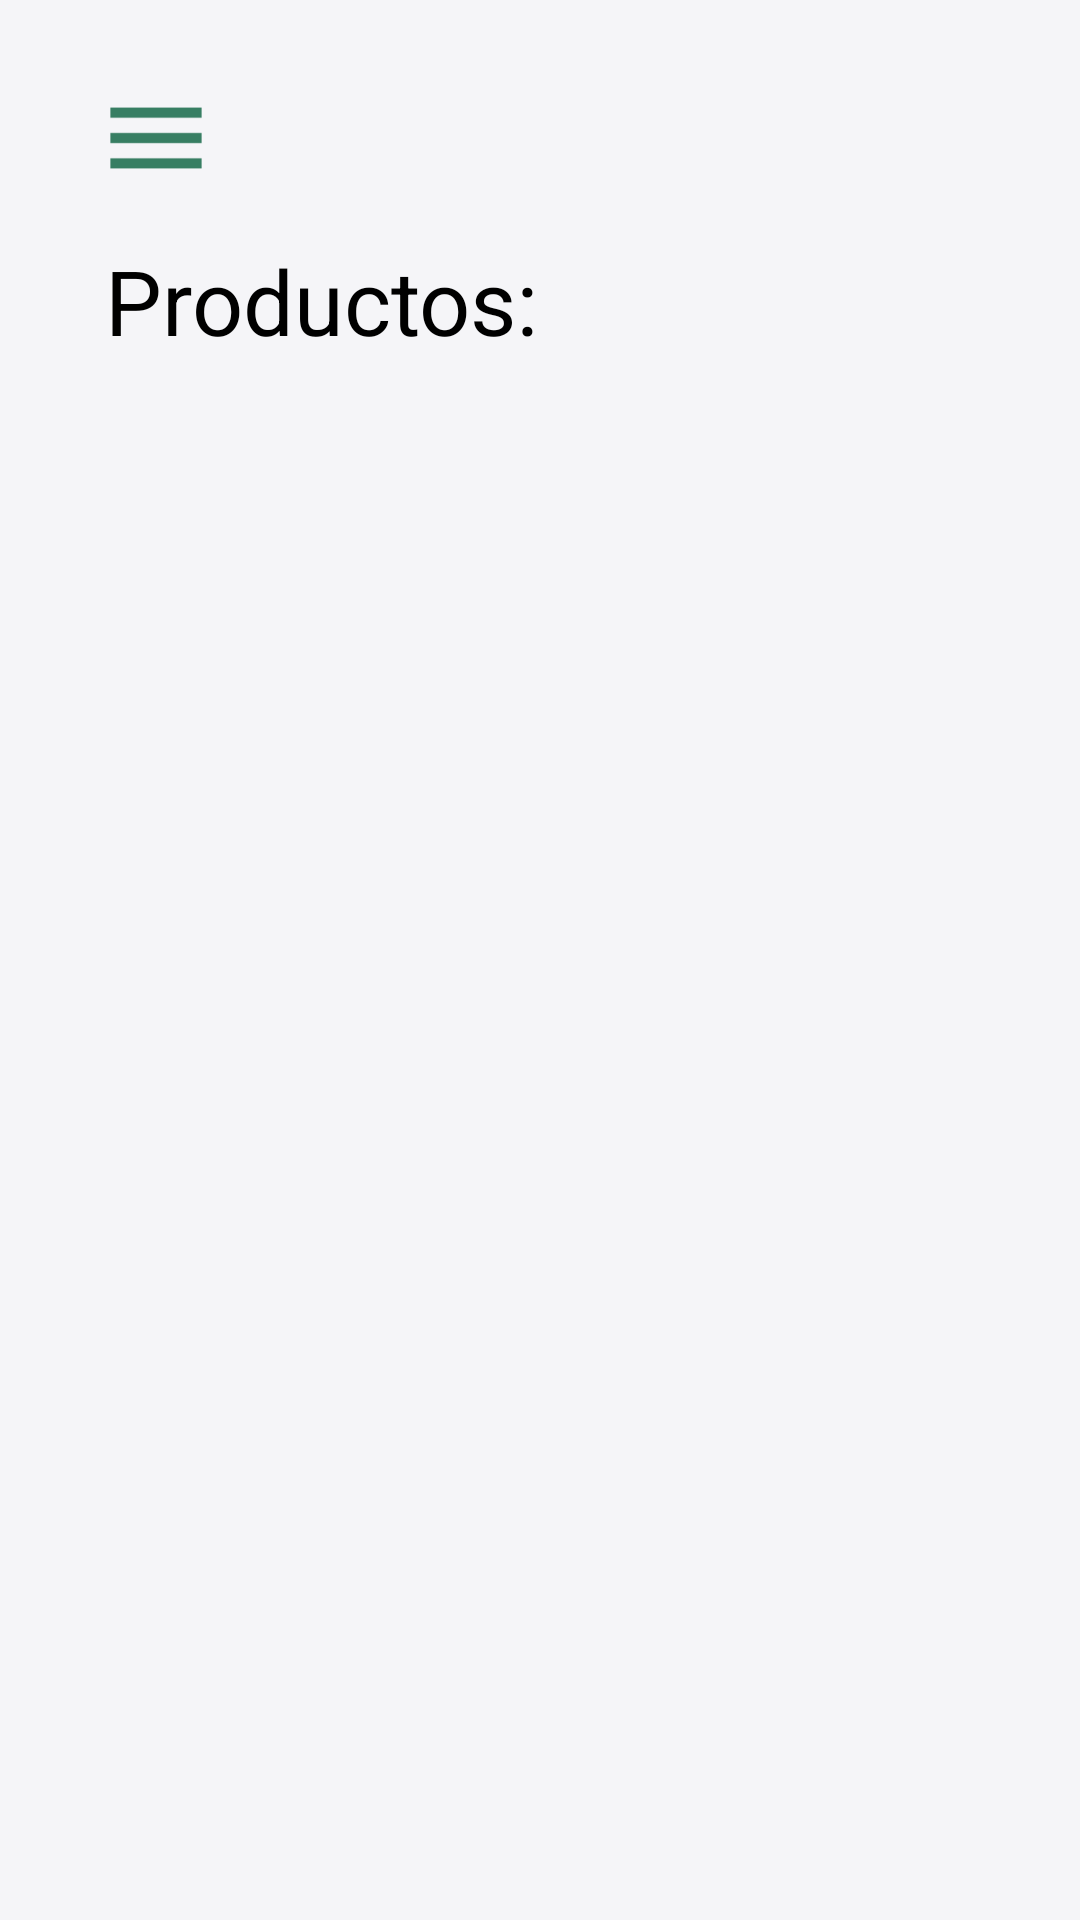

Icon click points for this 1080×1920 phone screenshot, format [x,y]:
sidemenu: [156,138]
